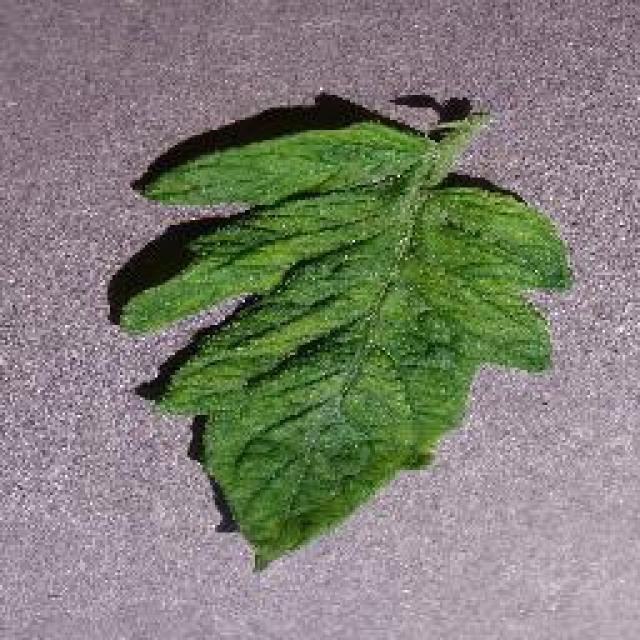Tomato___Tomato_mosaic_virus: (122, 120, 565, 565)
